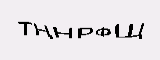З: (112, 22, 131, 46)
М: (71, 12, 90, 41)
Х: (31, 8, 52, 34)
Ч: (54, 6, 74, 35)
Ю: (90, 15, 115, 41)
